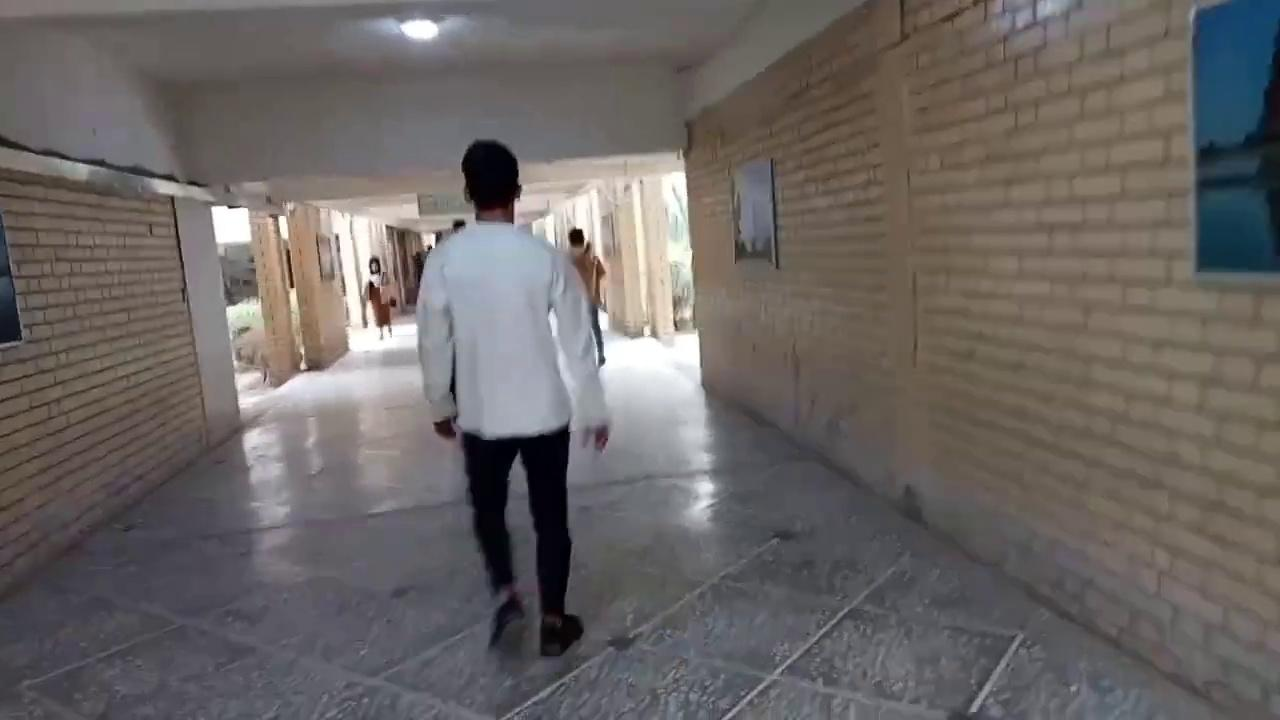person: (414, 138, 612, 657), (567, 227, 607, 367), (362, 256, 395, 339)
